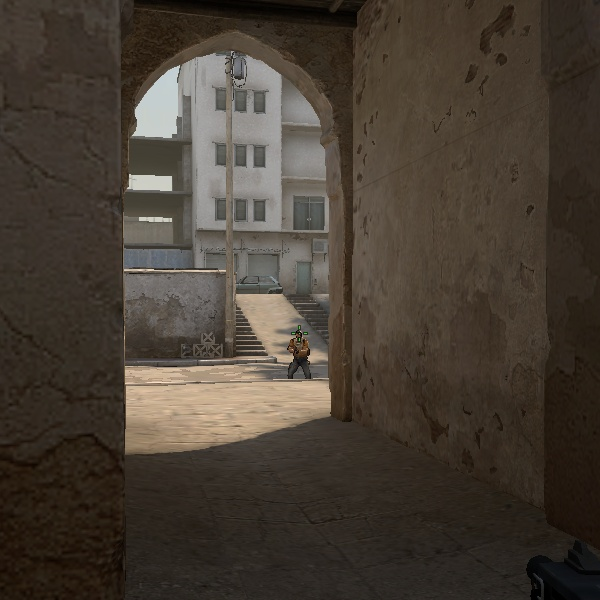t_body: (283, 329, 314, 379)
t_head: (295, 329, 304, 343)
